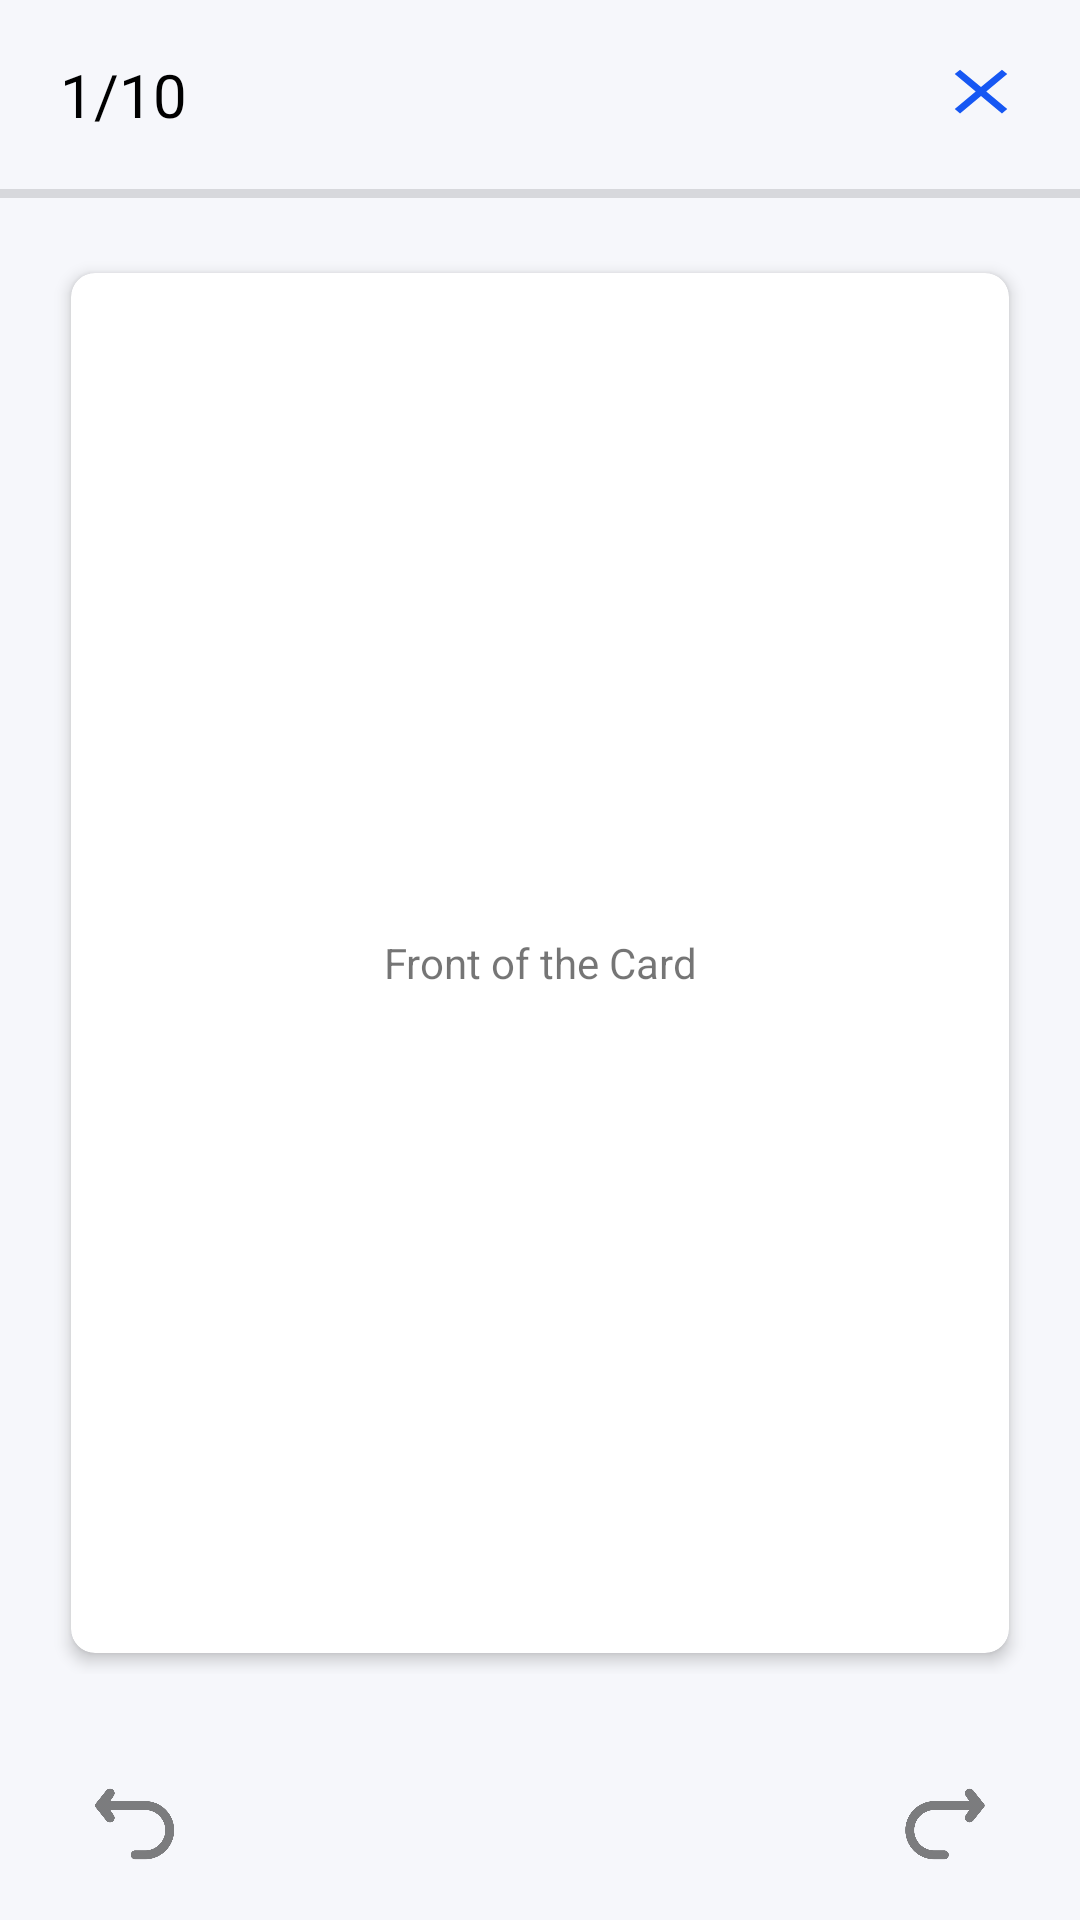

Point at icon controls on the screen. Image size 1080 x 1920, points as [x,y].
close: [981,92]
next: [945,1824]
